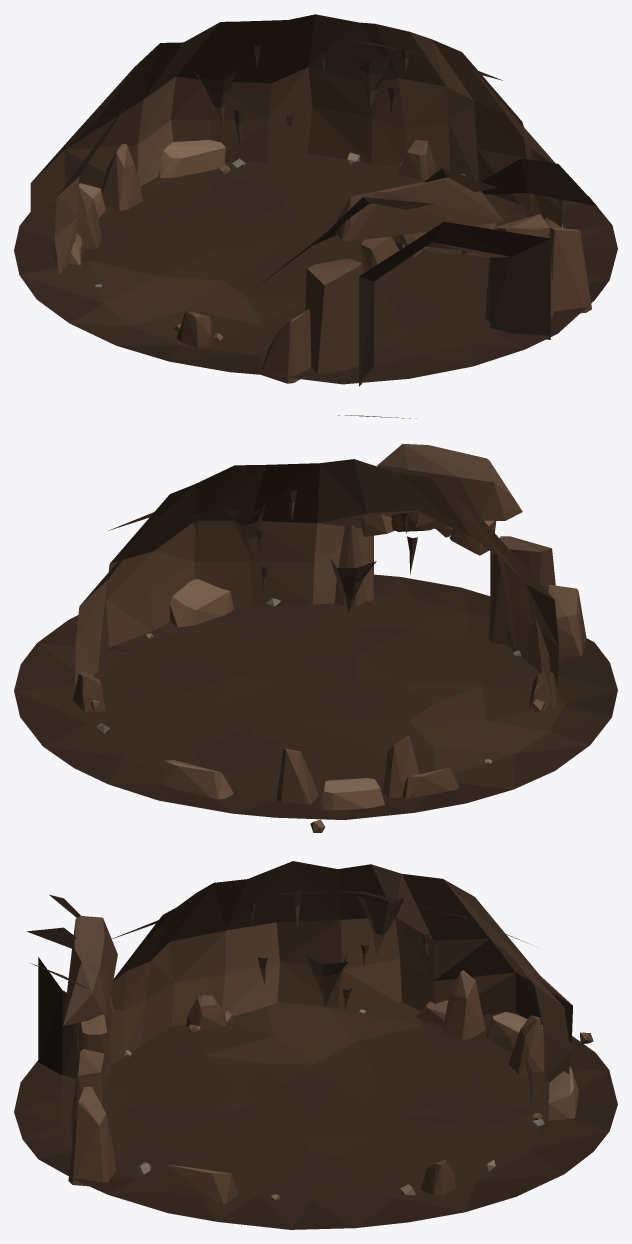
The model's file is tl_cave_side_b_v01.glb.
The picture shows the model from 3 angles, top to bottom: view 1: azimuth 30°, elevation 25°; view 2: azimuth 150°, elevation 25°; view 3: azimuth 270°, elevation 25°; orthographic projection.
Visible parts, largest first — view 1: tl_cave_side_b_v01, tl_cave_side_b_ceiling; view 2: tl_cave_side_b_v01, tl_cave_side_b_ceiling; view 3: tl_cave_side_b_v01, tl_cave_side_b_ceiling.
Part boxes in pixels (<box>): tl_cave_side_b_v01: <box>14,14,617,386</box>; tl_cave_side_b_ceiling: <box>193,39,596,289</box>; tl_cave_side_b_v01: <box>14,444,617,832</box>; tl_cave_side_b_ceiling: <box>108,415,417,612</box>; tl_cave_side_b_v01: <box>14,861,617,1229</box>; tl_cave_side_b_ceiling: <box>26,889,530,1010</box>.
Bounding box in the file's own units: 22.31 × 7.88 × 22.39.
